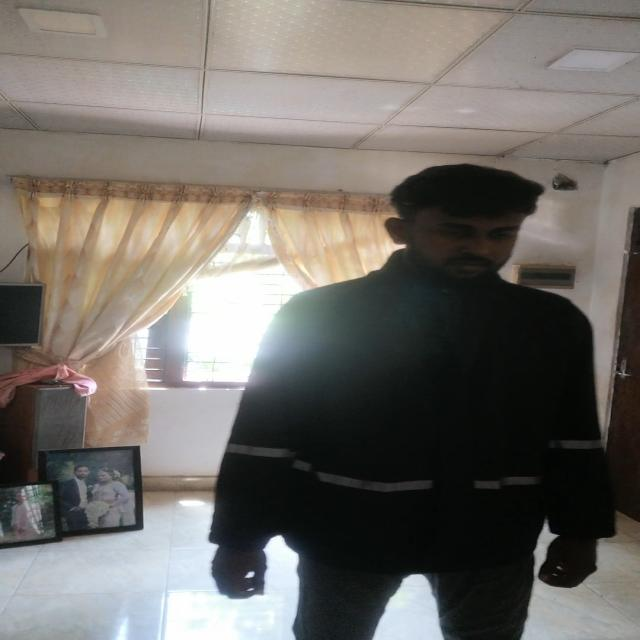Jacket_Wearer: (219, 251, 633, 564)
Person: (213, 149, 621, 640)
